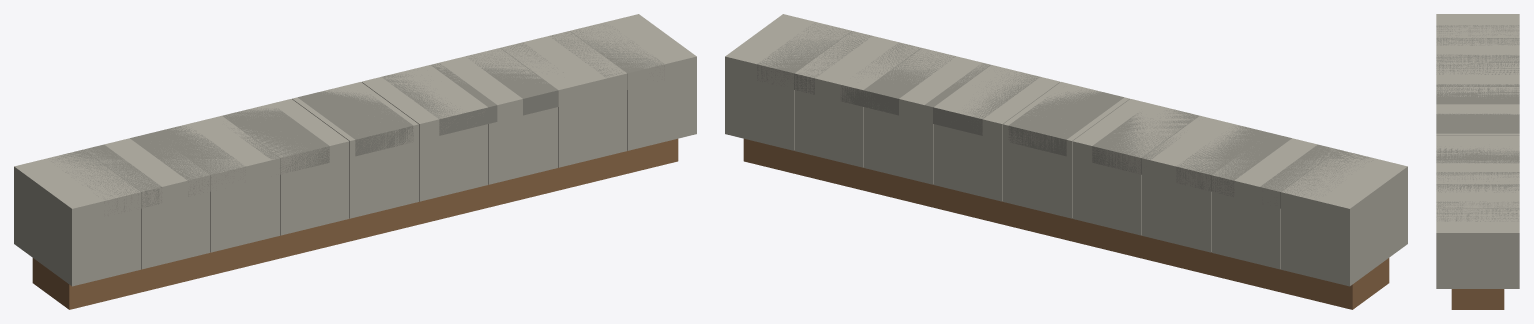
The model's file is roof_ridge_detail.glb.
3 renders of one model, left to right at view 1: azimuth 30°, elevation 25°; view 2: azimuth 150°, elevation 25°; view 3: azimuth 270°, elevation 25°, orthographic. The views are drawn at different scales.
Parts seen in each view (by area): view 1: roof_ridge_detail_0, roof_ridge_detail_1, roof_ridge_detail_8, roof_ridge_detail_9, roof_ridge_detail_6, roof_ridge_detail_3, roof_ridge_detail_2, roof_ridge_detail_7, roof_ridge_detail_4, roof_ridge_detail_5, roof_ridge_detail_13, roof_ridge_detail_12 (+5 smaller); view 2: roof_ridge_detail_0, roof_ridge_detail_1, roof_ridge_detail_8, roof_ridge_detail_9, roof_ridge_detail_4, roof_ridge_detail_3, roof_ridge_detail_6, roof_ridge_detail_2, roof_ridge_detail_7, roof_ridge_detail_5, roof_ridge_detail_13, roof_ridge_detail_11 (+5 smaller); view 3: roof_ridge_detail_9, roof_ridge_detail_2, roof_ridge_detail_7, roof_ridge_detail_8, roof_ridge_detail_1, roof_ridge_detail_3, roof_ridge_detail_13, roof_ridge_detail_6, roof_ridge_detail_12, roof_ridge_detail_4, roof_ridge_detail_11, roof_ridge_detail_14 (+5 smaller).
Boxes of the visible parts, bbox=[...] form: roof_ridge_detail_0: bbox=[32, 138, 678, 309]; roof_ridge_detail_1: bbox=[14, 150, 140, 286]; roof_ridge_detail_8: bbox=[501, 31, 627, 167]; roof_ridge_detail_9: bbox=[570, 14, 696, 150]; roof_ridge_detail_6: bbox=[361, 65, 488, 201]; roof_ridge_detail_3: bbox=[171, 115, 279, 252]; roof_ridge_detail_2: bbox=[84, 138, 210, 269]; roof_ridge_detail_7: bbox=[432, 48, 557, 184]; roof_ridge_detail_4: bbox=[224, 99, 349, 235]; roof_ridge_detail_5: bbox=[292, 82, 418, 218]; roof_ridge_detail_13: bbox=[298, 89, 413, 156]; roof_ridge_detail_12: bbox=[222, 107, 329, 174]; roof_ridge_detail_0: bbox=[743, 138, 1389, 309]; roof_ridge_detail_1: bbox=[1281, 150, 1407, 286]; roof_ridge_detail_8: bbox=[794, 31, 920, 167]; roof_ridge_detail_9: bbox=[725, 14, 851, 150]; roof_ridge_detail_4: bbox=[1072, 99, 1198, 235]; roof_ridge_detail_3: bbox=[1142, 115, 1253, 252]; roof_ridge_detail_6: bbox=[933, 65, 1060, 201]; roof_ridge_detail_2: bbox=[1211, 138, 1336, 269]; roof_ridge_detail_7: bbox=[864, 48, 989, 184]; roof_ridge_detail_5: bbox=[1003, 82, 1129, 218]; roof_ridge_detail_13: bbox=[1008, 89, 1123, 156]; roof_ridge_detail_11: bbox=[1176, 125, 1291, 196]; roof_ridge_detail_9: bbox=[1436, 209, 1519, 288]; roof_ridge_detail_2: bbox=[1436, 38, 1519, 62]; roof_ridge_detail_7: bbox=[1436, 160, 1519, 184]; roof_ridge_detail_8: bbox=[1436, 184, 1519, 208]; roof_ridge_detail_1: bbox=[1436, 14, 1519, 37]; roof_ridge_detail_3: bbox=[1436, 62, 1519, 86]; roof_ridge_detail_13: bbox=[1436, 113, 1519, 133]; roof_ridge_detail_6: bbox=[1436, 136, 1519, 159]; roof_ridge_detail_12: bbox=[1436, 84, 1519, 104]; roof_ridge_detail_4: bbox=[1436, 87, 1519, 111]; roof_ridge_detail_11: bbox=[1436, 54, 1519, 74]; roof_ridge_detail_14: bbox=[1436, 146, 1519, 163].
Bounding box in the file's own units: 2.36 × 0.4 × 0.38.
